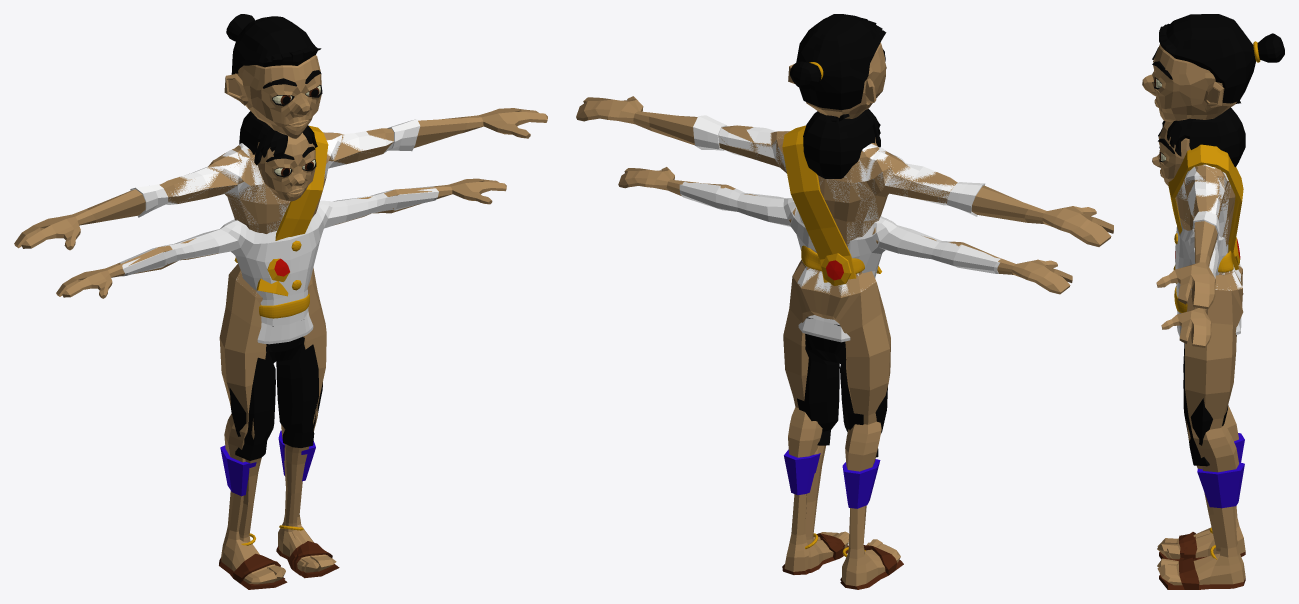
Rendered from Brothers.fbx.
3 renders of one model, left to right at view 1: azimuth 30°, elevation 25°; view 2: azimuth 150°, elevation 25°; view 3: azimuth 270°, elevation 25°, orthographic.
Parts seen in each view (by area): view 1: Mesh_OB_Body, Mesh_YB_Shirt, Mesh_YB_Body, Mesh_YB_Pants, Mesh_OB_Shirt, Mesh_OB_Hair, Mesh_OB_Sash, Mesh_YB_Hair, Mesh_OB_Pants, Cube.016, Mesh_YB_Belt; view 2: Mesh_OB_Body, Mesh_YB_Shirt, Mesh_OB_Hair, Mesh_OB_Shirt, Mesh_OB_Sash, Mesh_YB_Body, Mesh_YB_Pants, Mesh_YB_Hair, Mesh_OB_Pants; view 3: Mesh_OB_Body, Mesh_OB_Hair, Mesh_YB_Body, Mesh_YB_Hair, Mesh_OB_Sash, Mesh_OB_Shirt, Mesh_OB_Pants, Mesh_YB_Shirt, Mesh_YB_Pants, Cube.005, Cube.016, Cube.017 (+1 smaller).
Boxes of the visible parts, x1,y1,x2,y2 form: Mesh_OB_Body: (14,55,547,584); Mesh_YB_Shirt: (119,186,438,344); Mesh_YB_Body: (56,133,506,571); Mesh_YB_Pants: (229,326,322,460); Mesh_OB_Shirt: (130,119,420,279); Mesh_OB_Hair: (226,14,321,74); Mesh_OB_Sash: (234,125,328,296); Mesh_YB_Hair: (239,111,317,165); Mesh_OB_Pants: (220,430,315,496); Cube.016: (219,553,287,589); Mesh_YB_Belt: (259,294,309,318); Mesh_OB_Body: (576,42,1113,586); Mesh_YB_Shirt: (679,181,1000,342); Mesh_OB_Hair: (790,14,886,109); Mesh_OB_Shirt: (693,115,985,295); Mesh_OB_Sash: (782,125,881,285); Mesh_YB_Body: (618,135,1072,568); Mesh_YB_Pants: (797,317,887,457); Mesh_YB_Hair: (803,108,880,178); Mesh_OB_Pants: (784,449,880,508); Mesh_OB_Body: (1142,44,1245,585); Mesh_OB_Hair: (1159,14,1284,103); Mesh_YB_Body: (1152,121,1220,560); Mesh_YB_Hair: (1162,100,1245,167); Mesh_OB_Sash: (1168,144,1243,270); Mesh_OB_Shirt: (1177,164,1242,290); Mesh_OB_Pants: (1197,433,1244,508); Mesh_YB_Shirt: (1175,220,1241,336); Mesh_YB_Pants: (1183,335,1236,466); Cube.005: (1159,557,1245,589); Cube.016: (1159,532,1245,559); Cube.017: (1218,242,1233,272).
Size of the model in its own units: 1345 by 1318 by 311.
